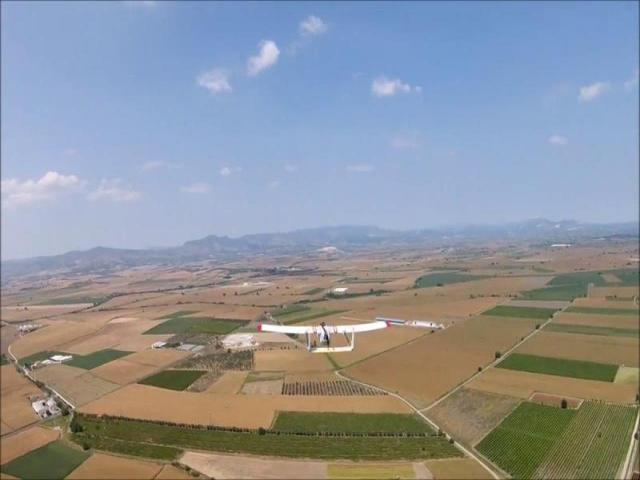hedef: (256, 308, 400, 366)
